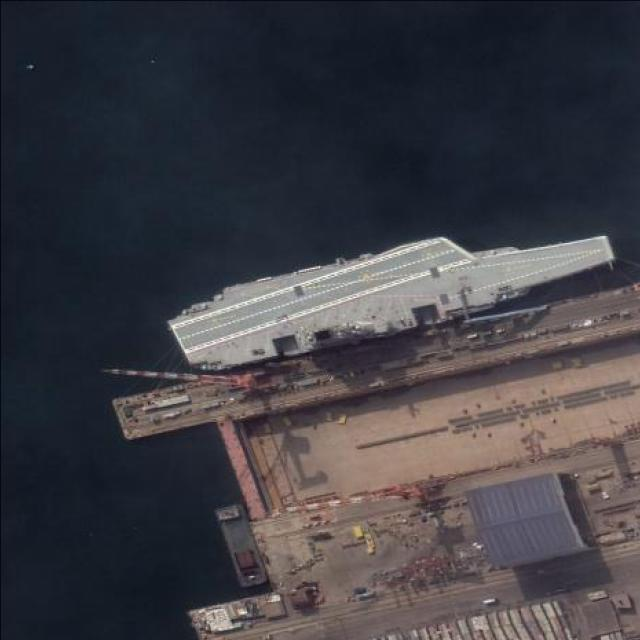Aircraft Carrier: (160, 202, 621, 379)
